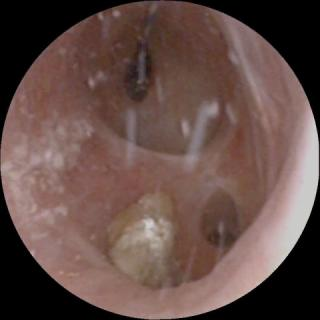stone: (108, 190, 189, 288)
tissue: (7, 7, 312, 313)
